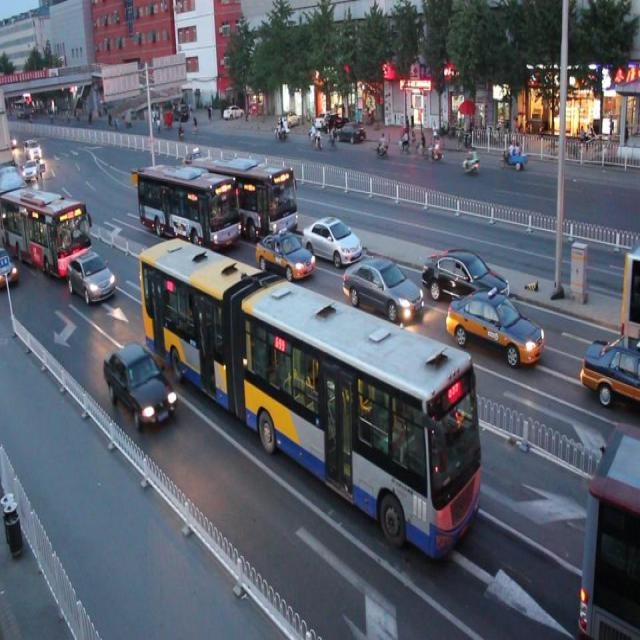car: (444, 289, 544, 365), (103, 339, 178, 433), (421, 246, 508, 307), (341, 259, 423, 323), (580, 330, 640, 404), (253, 226, 315, 282), (298, 217, 364, 267), (66, 252, 116, 307), (152, 168, 180, 191), (183, 146, 209, 170)
van: (138, 240, 480, 562), (579, 423, 640, 628), (136, 162, 242, 250), (194, 152, 298, 240), (1, 189, 92, 283)
